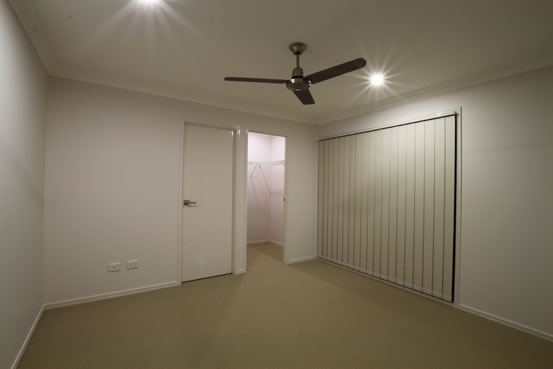ceiling fan: (215, 35, 387, 111)
